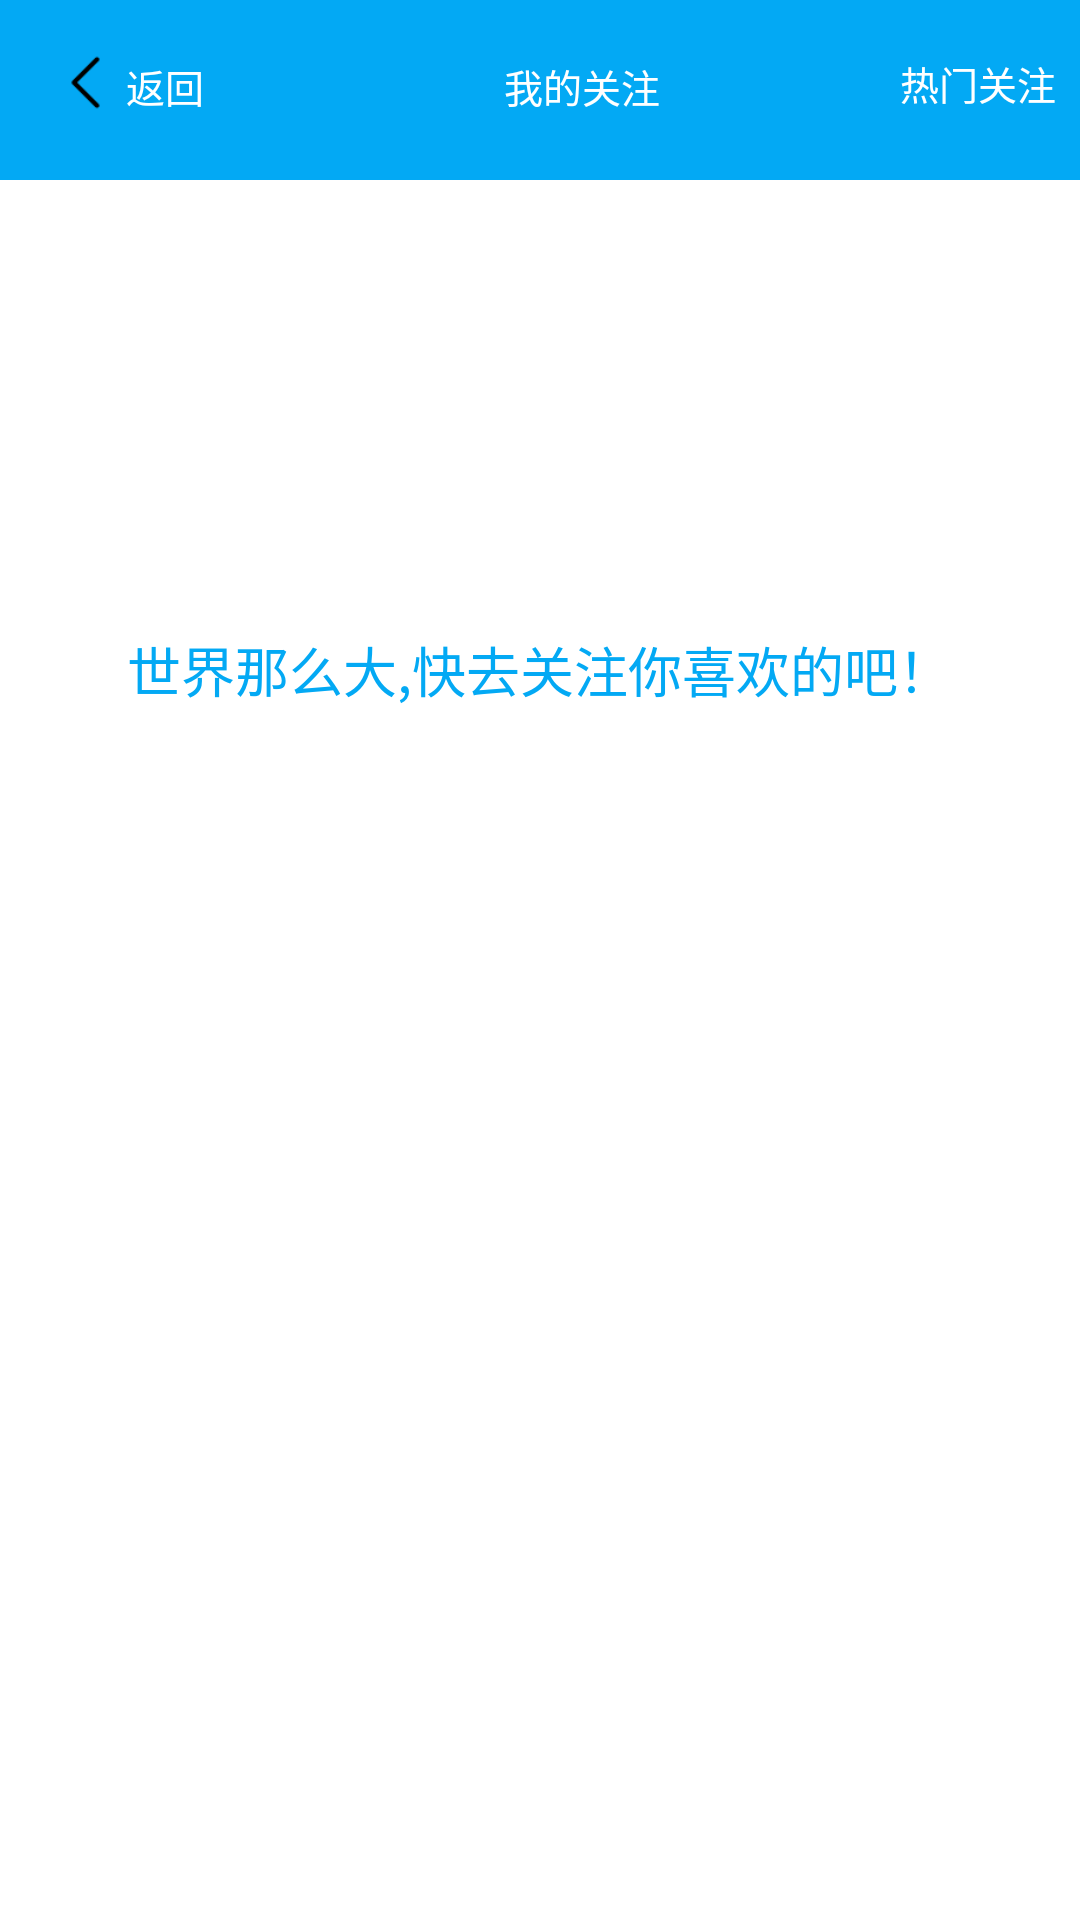

Locate icon controls on the screen. Image size 1080w x 1920h, boxes as (x1, y1, x2, y2).
zuojiantou: (71, 56, 100, 109)
